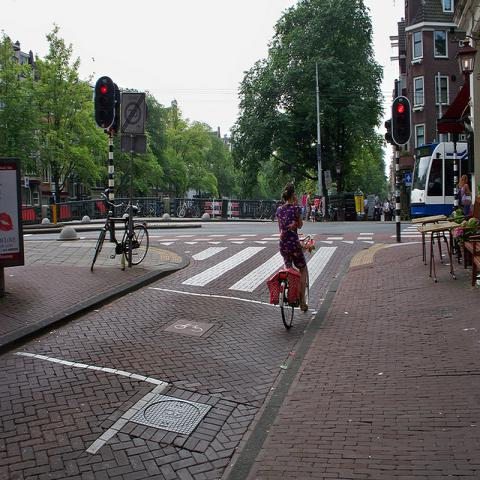bus: (409, 140, 472, 216)
